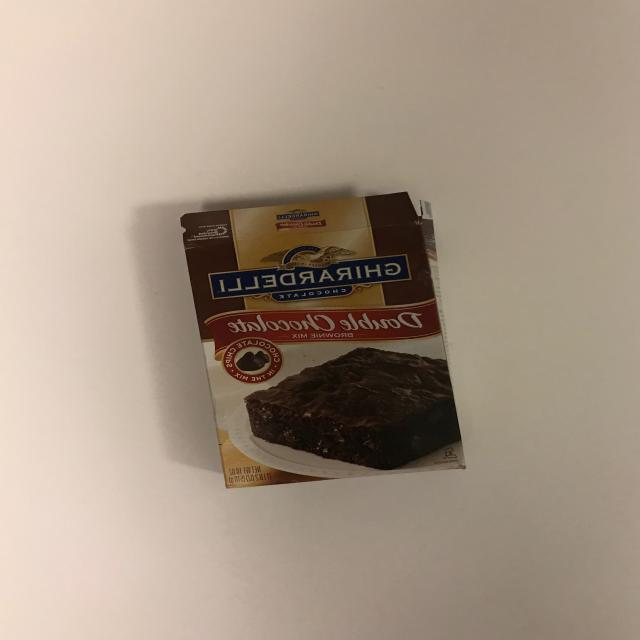paper: (162, 147, 485, 551)
